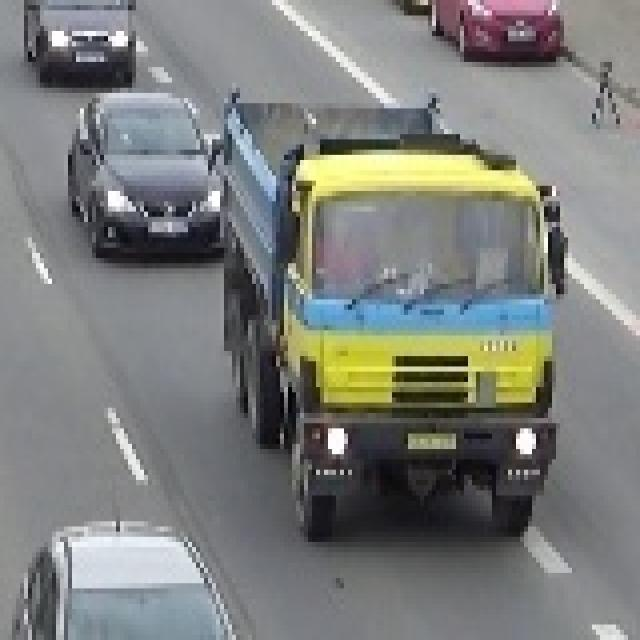car: (64, 87, 218, 268), (385, 0, 576, 73), (28, 0, 148, 95)
truck: (216, 88, 564, 532)
